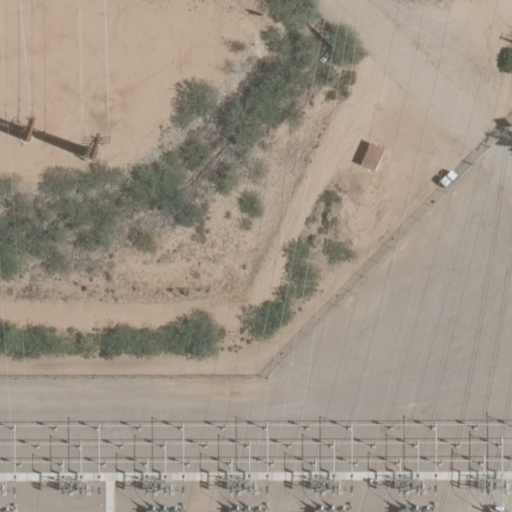DT: (86, 125, 107, 161), (24, 111, 40, 148)
